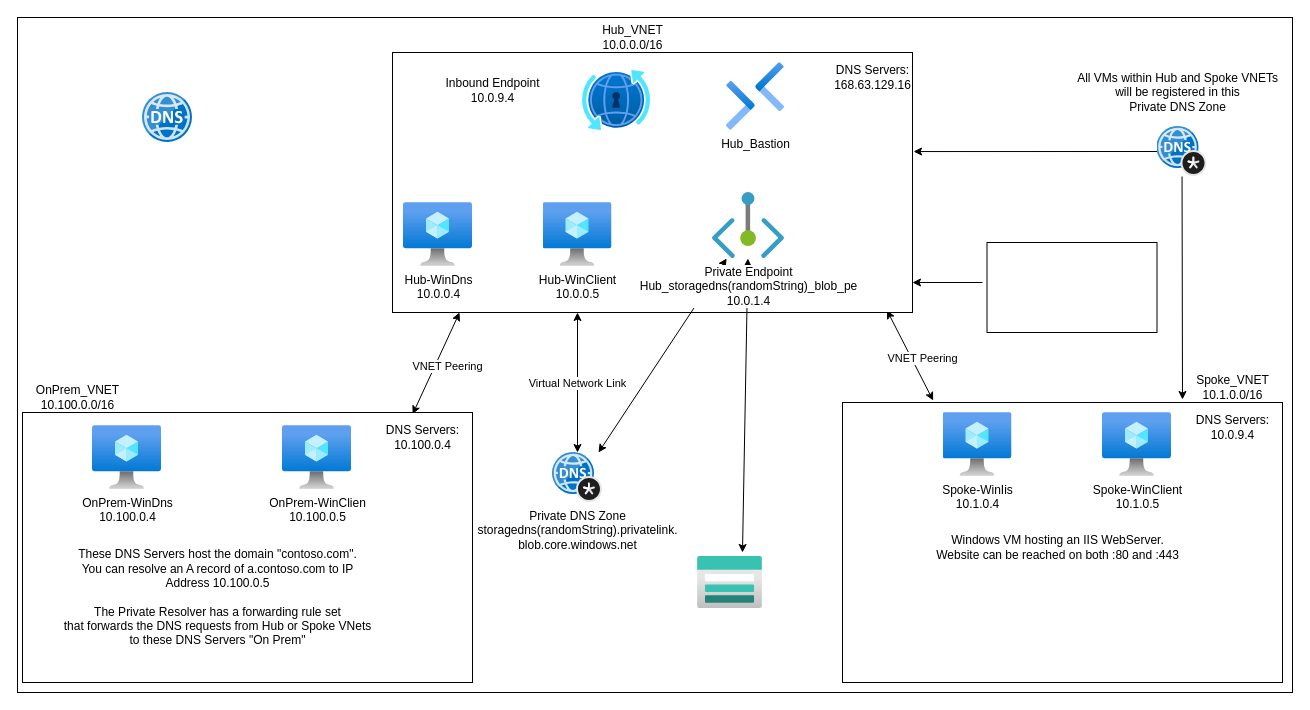
Some shapes in this 1310 by 710 pixel diagram are drawn without their labels. Each missing label, with the centre of its shape:
Private DNS Zone azure-contoso.com Registration Enabled: True: [1181,151]
Private Resolver Hub_DNSPrivateResolver: [616,100]
Private Resolver Outbound RuleSet contoso.com. -> 10.100.0.4: [1071,287]
Public DNS Zone DNSSandboxTest(randomString).com: [167,117]
Storage Account storagedns(radndomString): [729,582]
